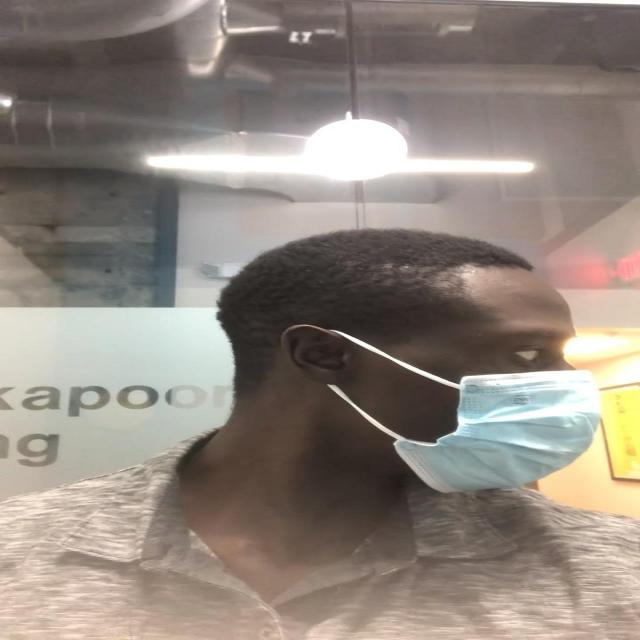face: (288, 269, 598, 493)
